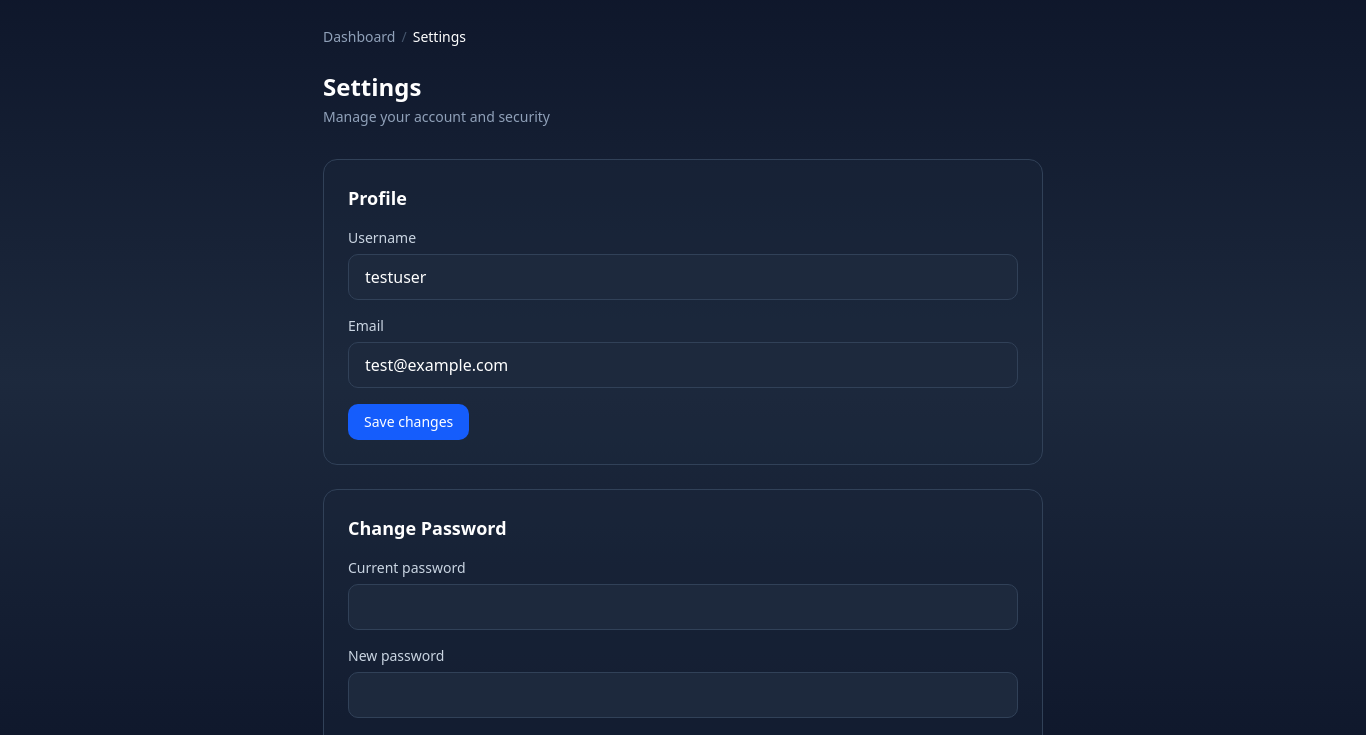
SettingsPage › changes password when new password is valid
Expected: the field showing "testuser" below "Username" is shown, [348, 254, 1018, 300]
Type "oldpassword" into the password field below "Current password".
click(683, 607); type("oldpassword")  # box [348, 584, 1018, 630]
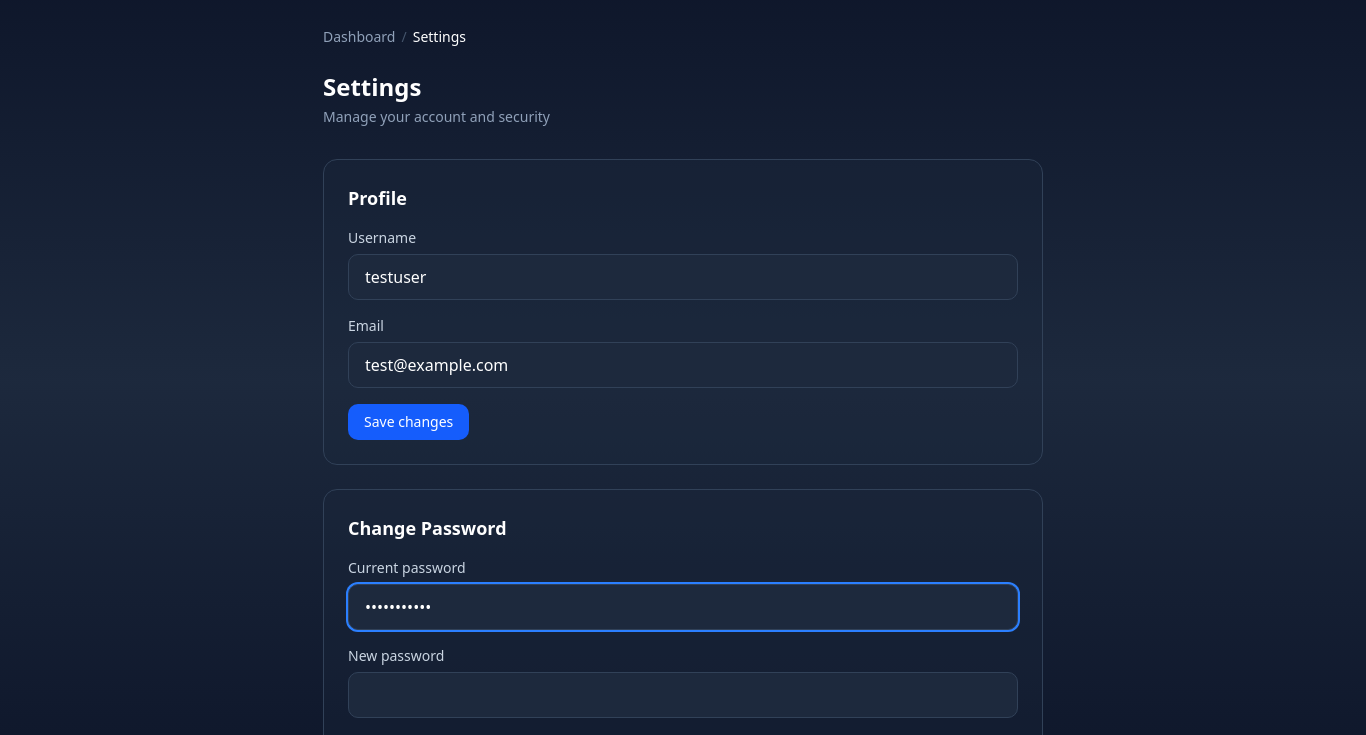
Type "newpassword123" into the 2nd password field.
click(683, 695); type("newpassword123")  # box [348, 672, 1018, 718]
(page scrolled)
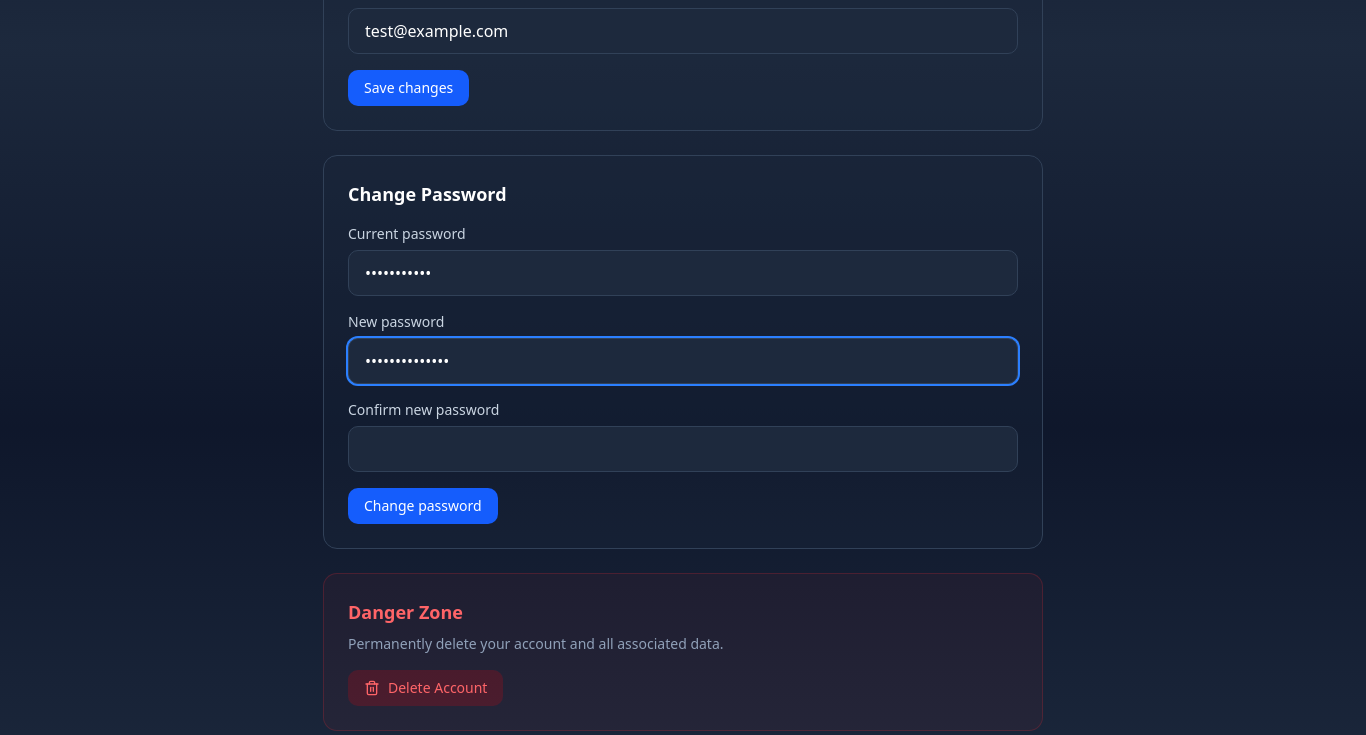
Type "newpassword123" into the password field below "Confirm new password".
click(683, 449); type("newpassword123")  # box [348, 426, 1018, 472]
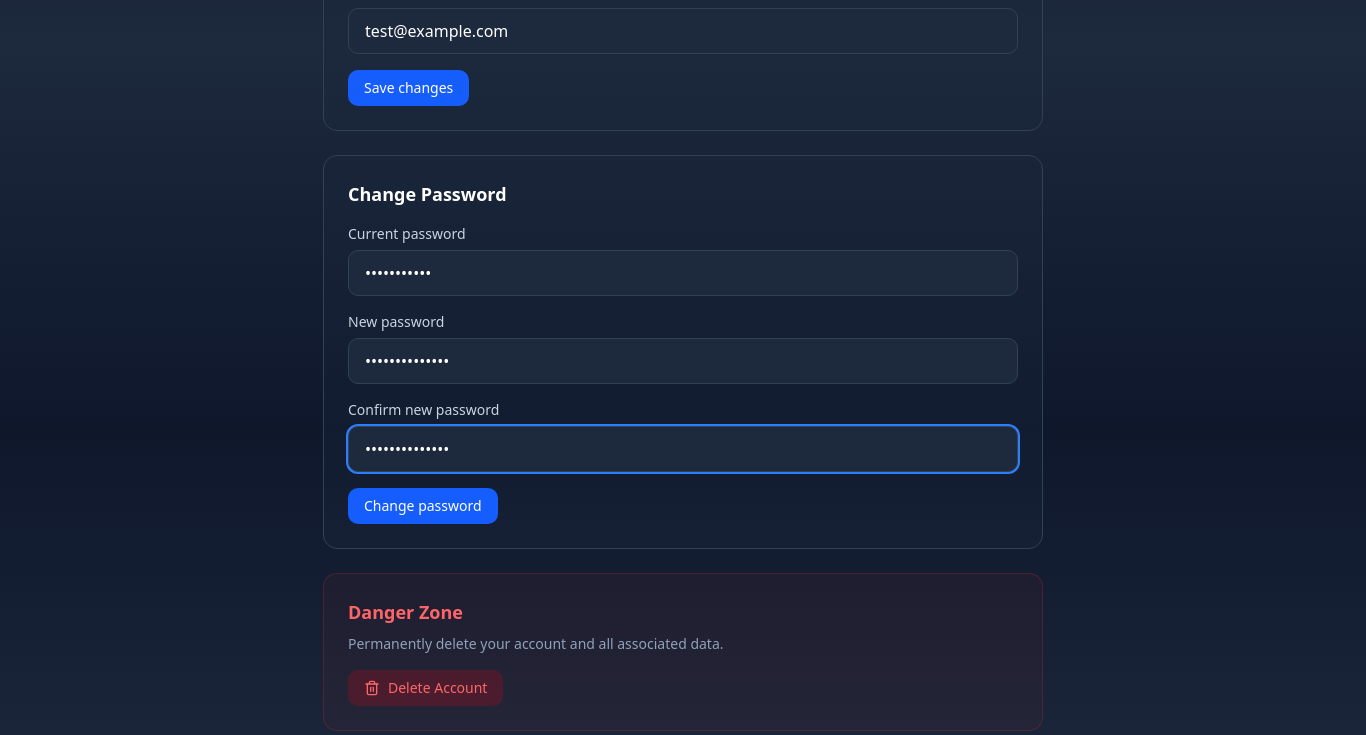
Click the button "Change password".
click(423, 506)  # box [348, 488, 498, 524]
(page scrolled)
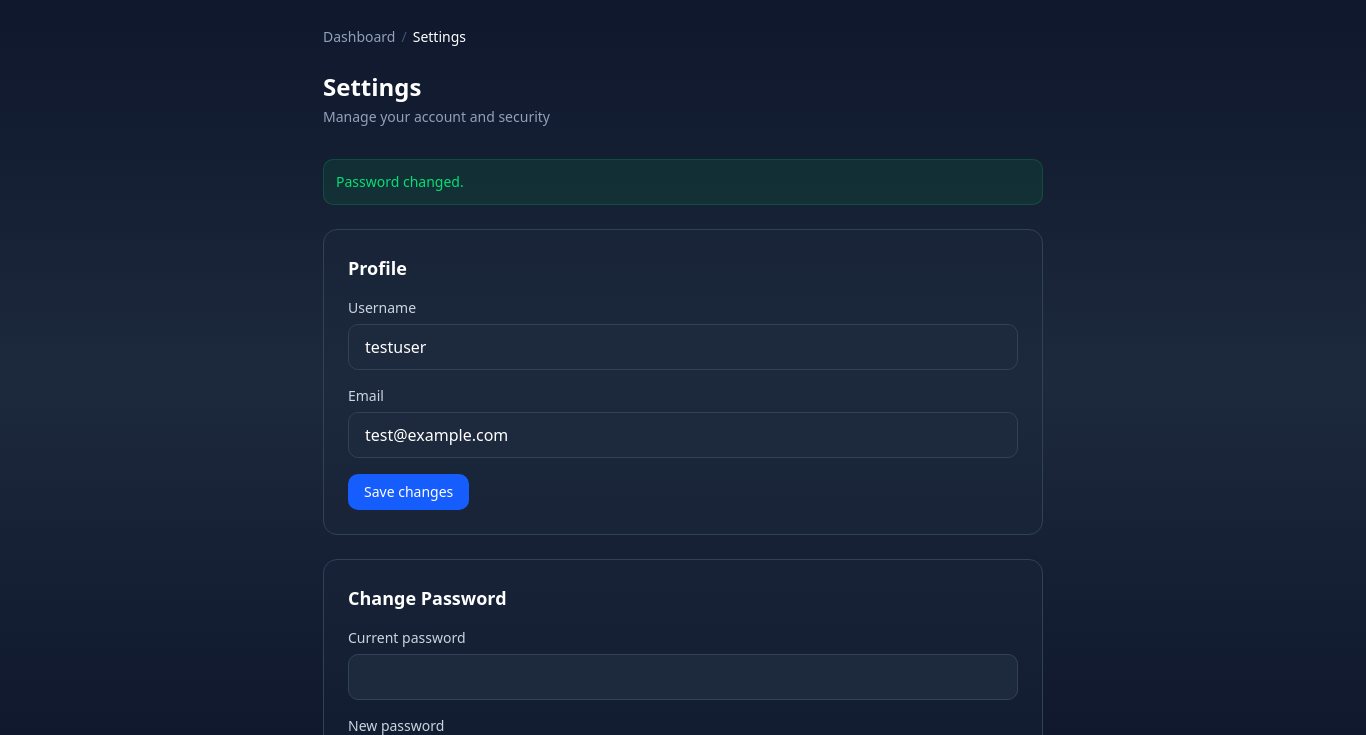
Expected: the text "Password changed." is shown, [323, 159, 1043, 205]
